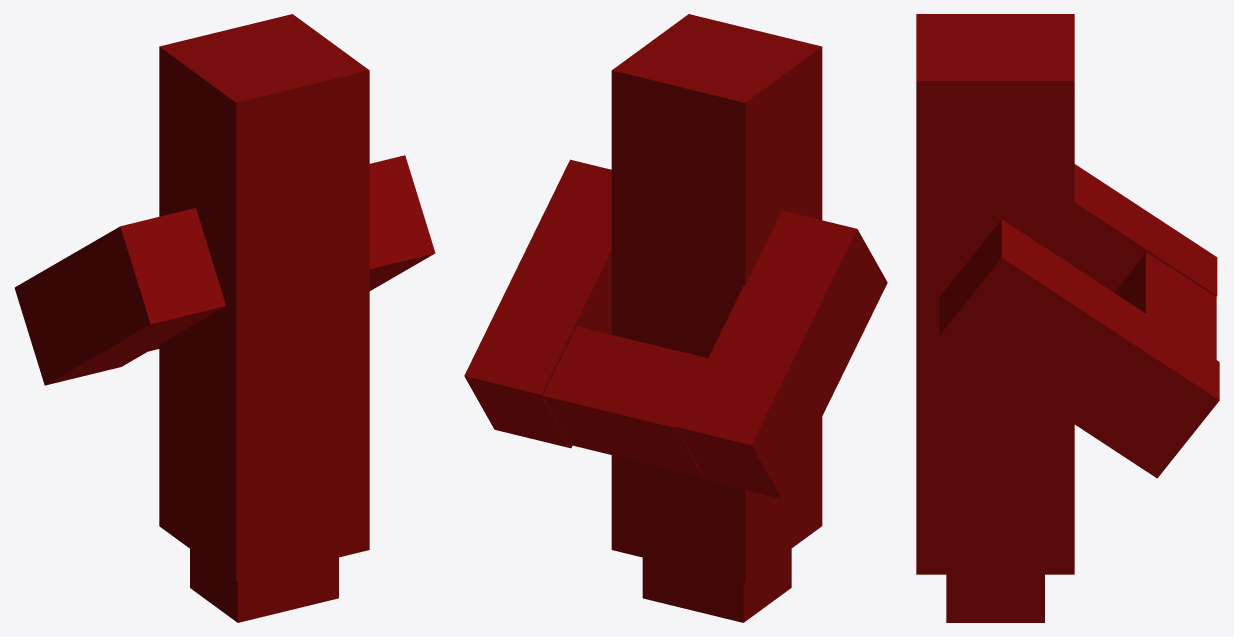
The model's file is noumin.obj.
3 renders of one model, left to right at view 1: azimuth 30°, elevation 25°; view 2: azimuth 150°, elevation 25°; view 3: azimuth 270°, elevation 25°, orthographic. The views are drawn at different scales.
Parts seen in each view (by area): view 1: Cube; view 2: Cube; view 3: Cube.
Part boxes in pixels (x1=…): Cube: x1=14, y1=14, x2=435, y2=622; Cube: x1=464, y1=14, x2=887, y2=622; Cube: x1=916, y1=14, x2=1219, y2=622.
Bounding box in the file's own units: 4.29 × 7.66 × 3.83.
Materials: 1 (1 with a texture image).
